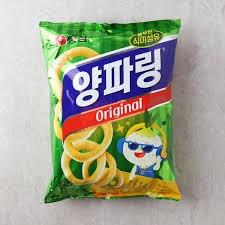snack: (38, 18, 183, 205)
